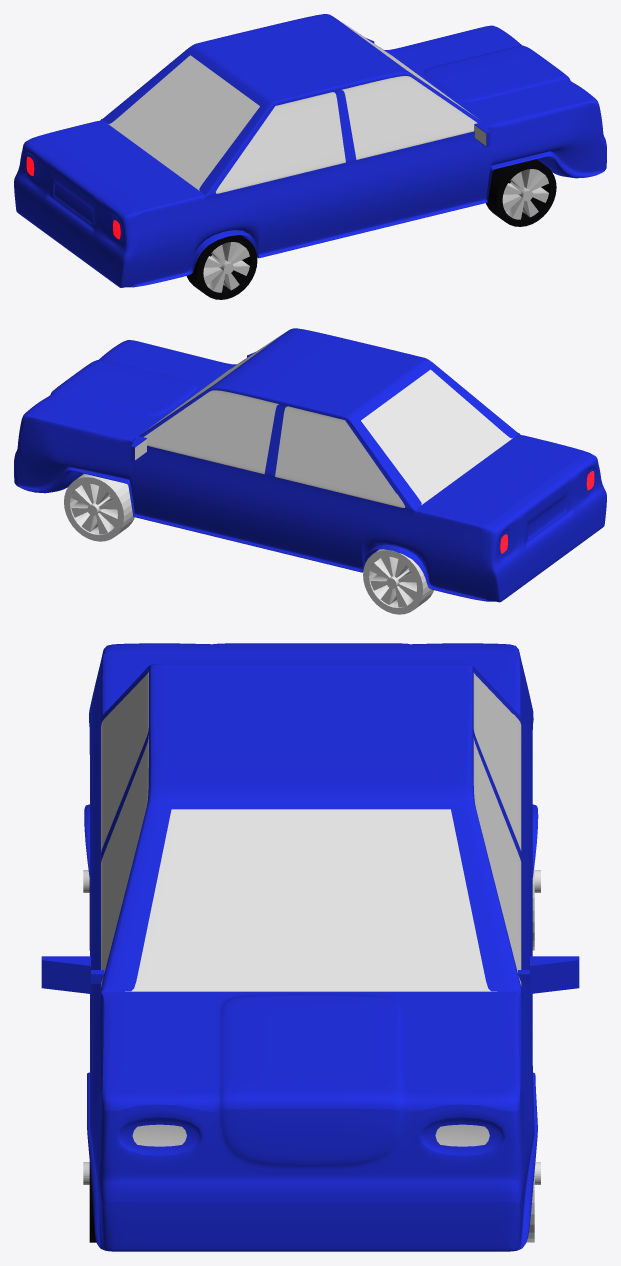
The model's file is Car.fbx.
3 renders of one model, top to bottom at view 1: azimuth 30°, elevation 25°; view 2: azimuth 150°, elevation 25°; view 3: azimuth 270°, elevation 25°, orthographic. The views are drawn at different scales.
Parts seen in each view (by area): view 1: Car.005; view 2: Car.005; view 3: Car.005.
Part boxes in pixels (bbox=[...]): Car.005: bbox=[14, 14, 606, 299]; Car.005: bbox=[14, 328, 606, 614]; Car.005: bbox=[41, 643, 579, 1251].
Bounding box in the file's own units: 1380 × 460 × 658.
